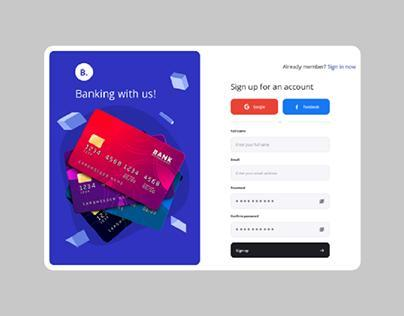button: (231, 243, 331, 260), (284, 99, 331, 117), (231, 99, 279, 116)
input: (231, 165, 333, 183), (232, 137, 332, 154), (232, 194, 332, 211), (232, 222, 331, 238)
label: (230, 81, 318, 93), (230, 213, 262, 221), (230, 184, 250, 192), (229, 156, 245, 164), (228, 130, 249, 134)
